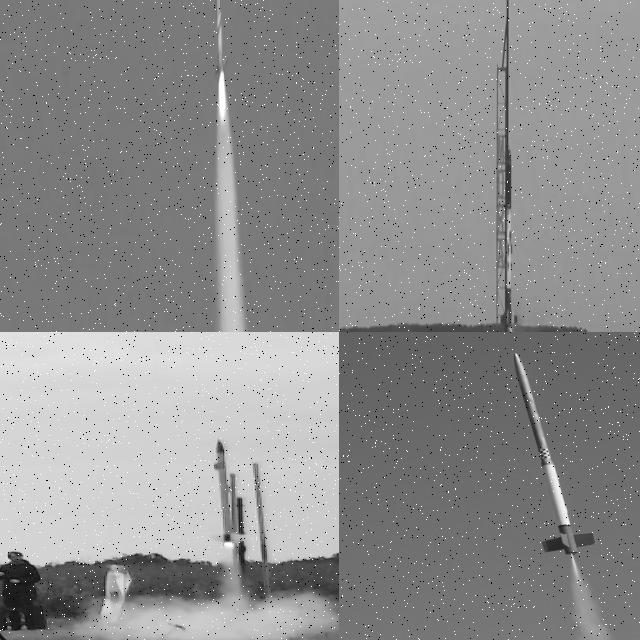Rocket: (512, 351, 596, 556), (208, 439, 248, 543), (500, 148, 518, 332), (214, 0, 227, 78)
